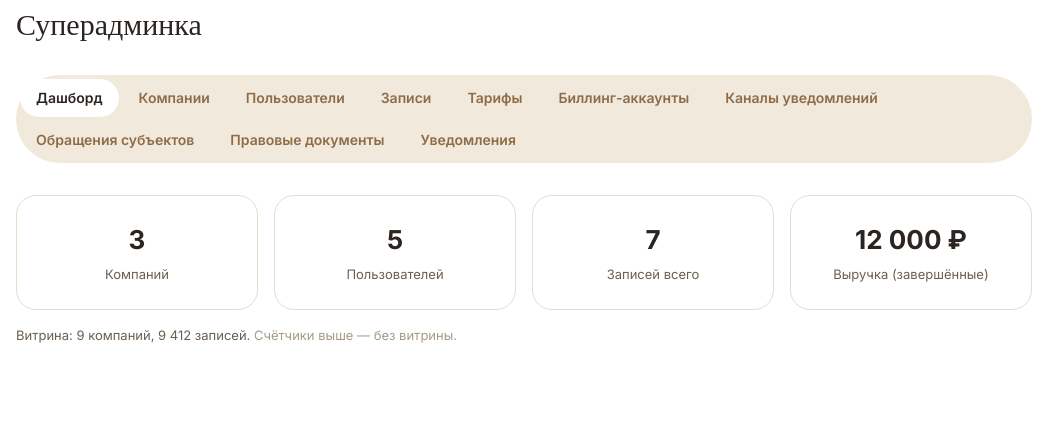
Test: AdminPage — users tab › an empty result says so
This screenshot has width=1049, height=444.
Click the button "Пользователи".
click(295, 98)  # box x1=230 y1=79 x2=361 y2=117
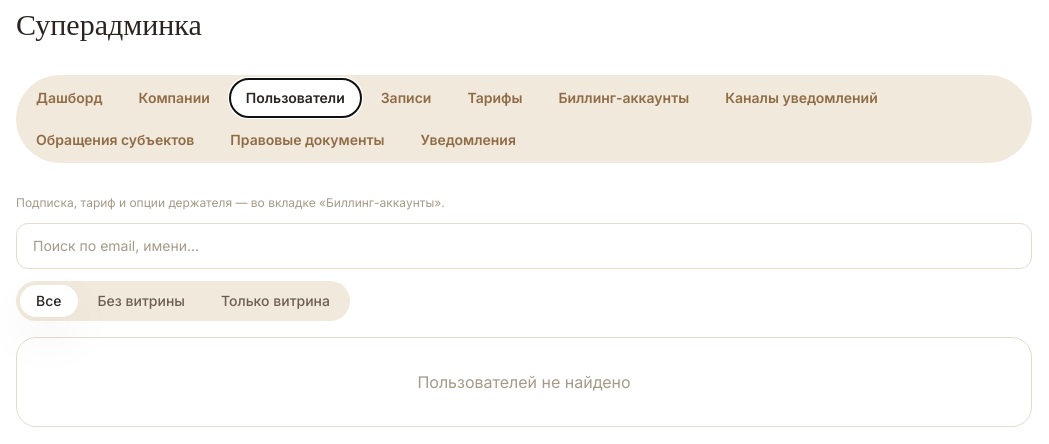
Result: the text "Пользователей не найдено" is shown at x1=16 y1=337 x2=1032 y2=427
